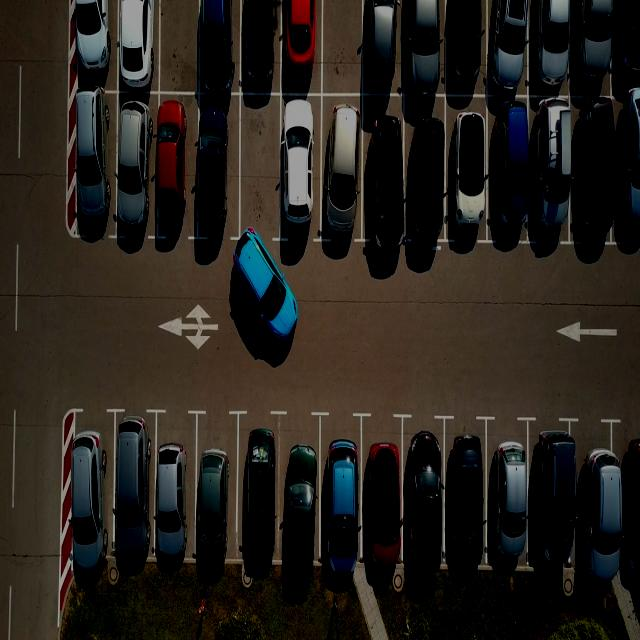empty: (237, 93, 282, 242), (320, 0, 365, 93), (156, 0, 200, 92)
occupied: (572, 434, 635, 592), (482, 414, 534, 574), (67, 406, 114, 579), (317, 411, 365, 577), (400, 412, 448, 578), (235, 409, 283, 568), (66, 88, 116, 236), (525, 100, 577, 241), (150, 407, 196, 565), (193, 92, 241, 242), (319, 94, 366, 246), (444, 101, 492, 242), (278, 92, 322, 242), (152, 92, 196, 242), (196, 407, 239, 558), (362, 100, 407, 242), (572, 90, 612, 249), (363, 408, 403, 567), (530, 416, 569, 575), (446, 414, 486, 569), (405, 106, 449, 242), (283, 410, 319, 562), (493, 98, 526, 245), (117, 410, 147, 563), (118, 86, 149, 234), (569, 0, 617, 95), (487, 0, 533, 95), (113, 0, 160, 92), (444, 0, 490, 93), (197, 0, 241, 92), (279, 0, 322, 93), (239, 0, 280, 93), (363, 0, 404, 93), (614, 101, 640, 242), (406, 1, 444, 92), (534, 0, 568, 100), (78, 0, 113, 84), (612, 0, 638, 98)
